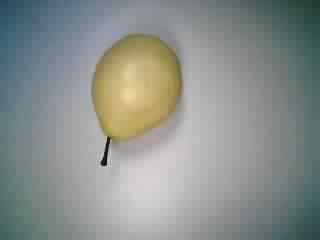pear: (75, 30, 188, 175)
